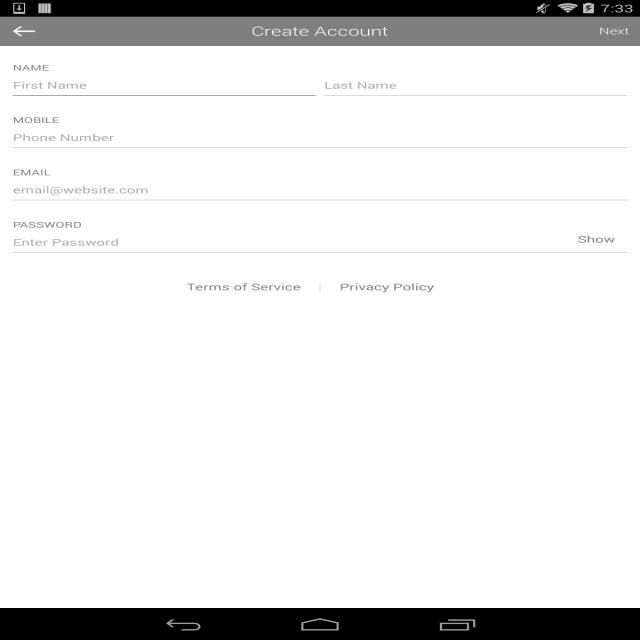Button: (180, 272, 306, 304), (334, 272, 441, 304), (559, 221, 627, 253), (571, 16, 640, 46)
EditText: (13, 125, 627, 151), (13, 178, 627, 203), (13, 230, 627, 255), (13, 73, 316, 98), (324, 73, 627, 98)
ImageView: (13, 26, 35, 37)
TextView: (13, 114, 627, 126), (13, 166, 627, 178), (13, 62, 627, 73), (13, 219, 627, 230), (251, 24, 388, 39)
